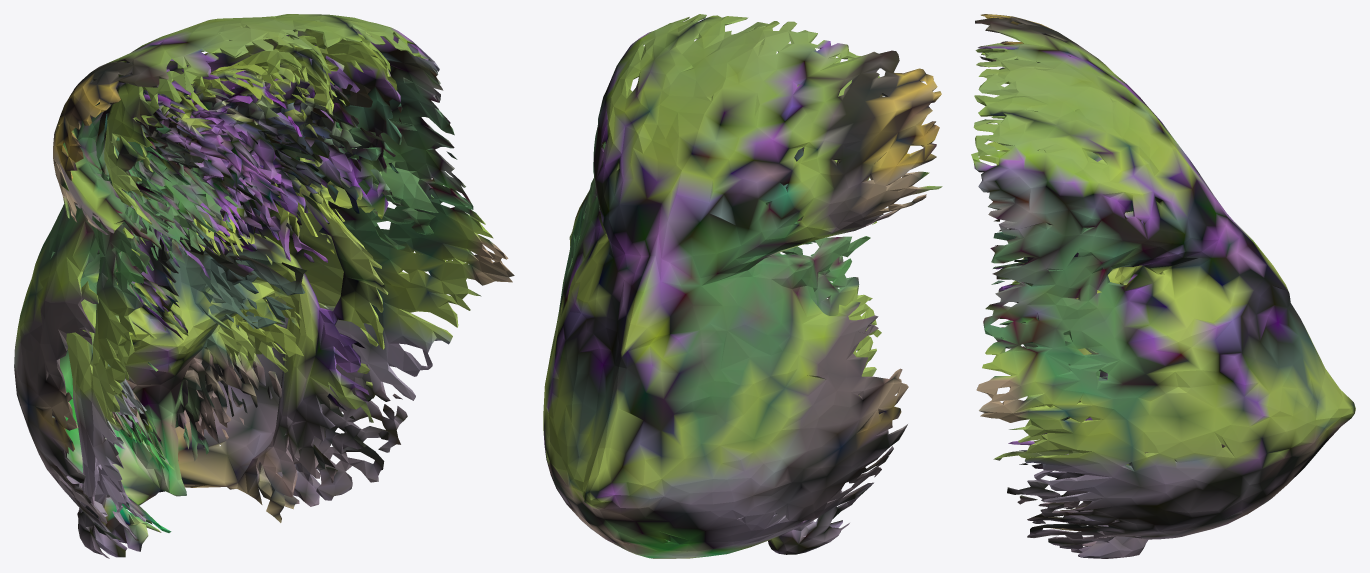
File: skeletalArcher.glb
3 views of the same model, side by side, from view 1: azimuth 30°, elevation 25°; view 2: azimuth 150°, elevation 25°; view 3: azimuth 270°, elevation 25° (orthographic). The views are drawn at different scales.
Parts seen in each view (by area): view 1: world; view 2: world; view 3: world.
Boxes of the visible parts, x1,y1,x2,y2 form: world: (14, 14, 514, 558); world: (543, 14, 942, 558); world: (971, 14, 1355, 558).
Size of the model in its own units: 0.8572 by 1 by 0.7729.
